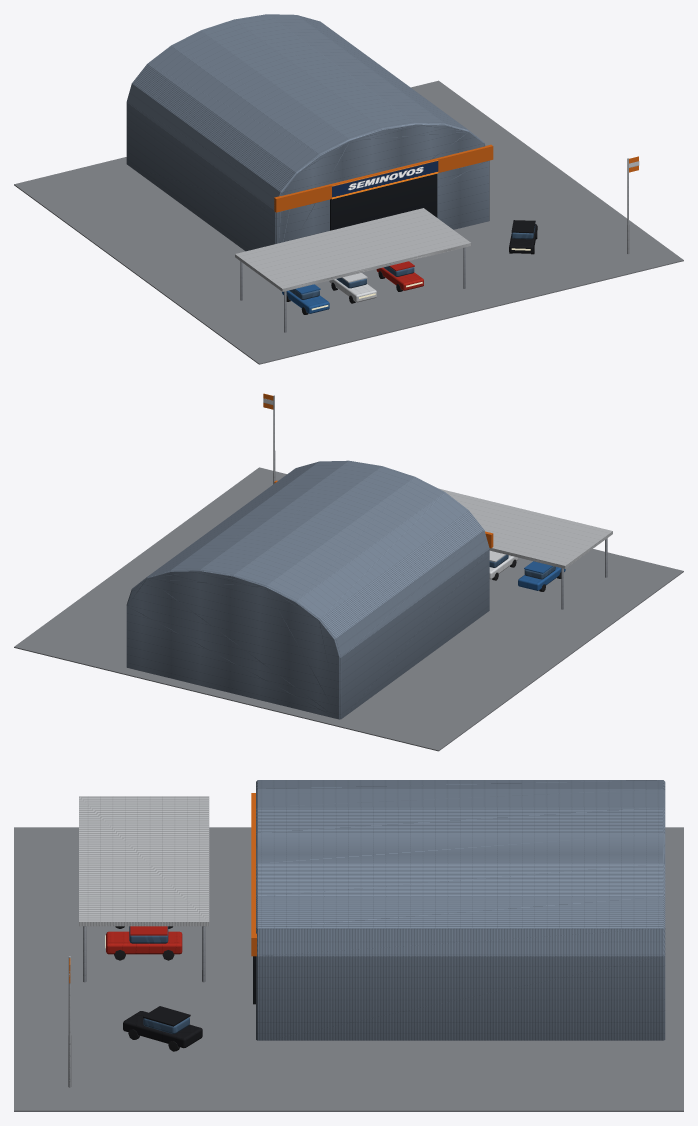
File: galpao_de_seminovos.glb
3 renders of one model, top to bottom at view 1: azimuth 30°, elevation 25°; view 2: azimuth 150°, elevation 25°; view 3: azimuth 270°, elevation 25°, orthographic. The views are drawn at different scales.
Visible parts, largest first — view 1: galpao_de_seminovos, galpao_de_seminovos_liso; view 2: galpao_de_seminovos, galpao_de_seminovos_liso; view 3: galpao_de_seminovos, galpao_de_seminovos_liso.
Boxes of the visible parts, box(x1,y1,x2,y2) form: galpao_de_seminovos: box(126, 14, 639, 332); galpao_de_seminovos_liso: box(14, 80, 683, 364); galpao_de_seminovos: box(126, 393, 612, 719); galpao_de_seminovos_liso: box(14, 467, 683, 751); galpao_de_seminovos: box(68, 780, 665, 1087); galpao_de_seminovos_liso: box(14, 793, 683, 1111).
Bounding box in the file's own units: 36 × 9.87 × 36.
Materials: 8 (5 with a texture image).
